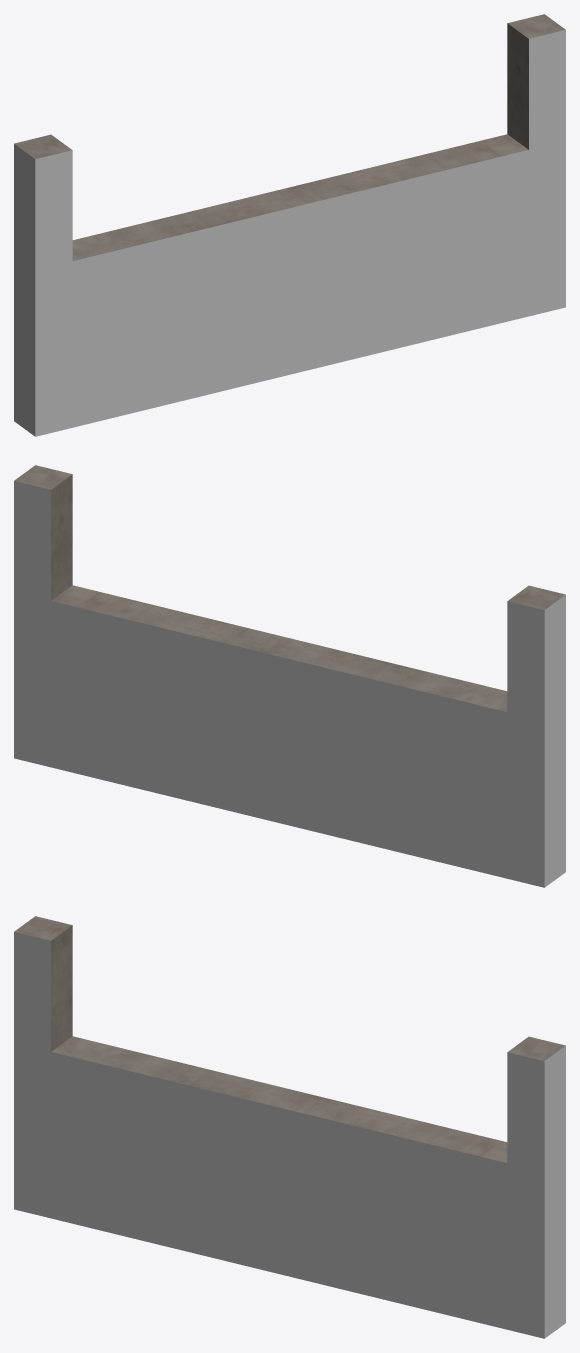
The model's file is wall_typeB.dae.
3 renders of one model, top to bottom at view 1: azimuth 30°, elevation 25°; view 2: azimuth 150°, elevation 25°; view 3: azimuth 330°, elevation 25°, orthographic.
Visible parts, largest first — view 1: wall_typeB; view 2: wall_typeB; view 3: wall_typeB.
Boxes of the visible parts, x1,y1,x2,y2 form: wall_typeB: [14, 14, 565, 436]; wall_typeB: [14, 465, 565, 887]; wall_typeB: [14, 916, 565, 1338].
Size of the model in its own units: 1 by 0.5 by 0.07.
